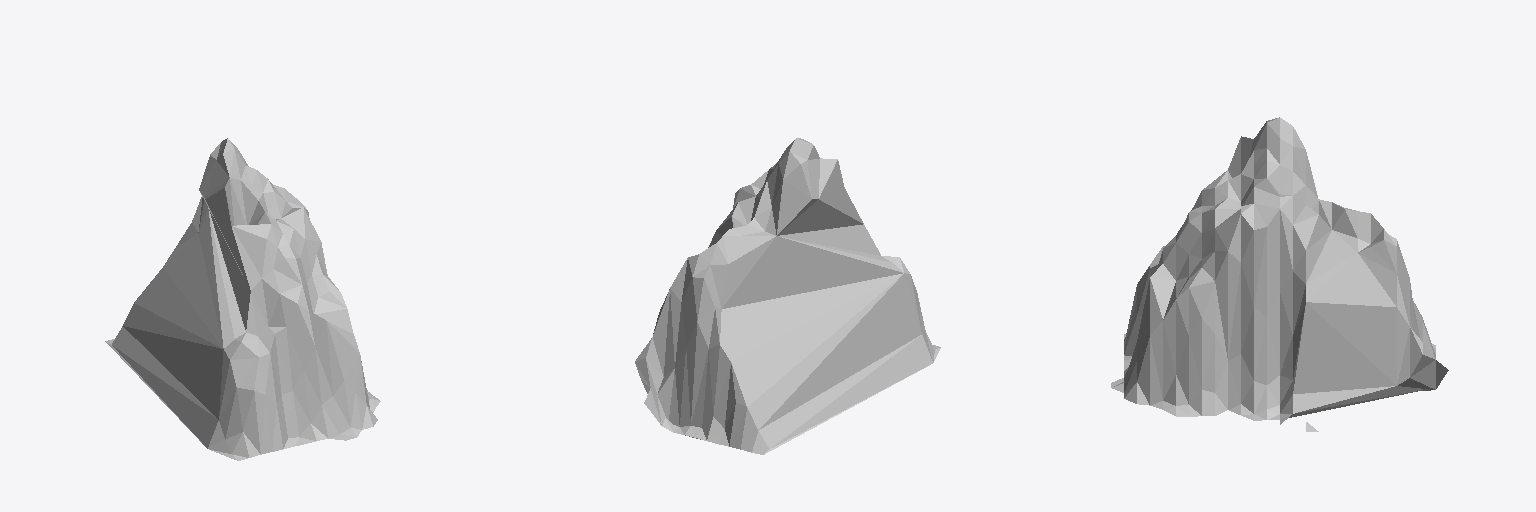
Rendered from tree_43.obj.
The picture shows the model from 3 angles: view 1: azimuth 30°, elevation 25°; view 2: azimuth 150°, elevation 25°; view 3: azimuth 270°, elevation 25°; orthographic projection.
Parts seen in each view (by area): view 1: tree_43_minus_dtm; view 2: tree_43_minus_dtm; view 3: tree_43_minus_dtm.
Part boxes in pixels (bbox=[...]): tree_43_minus_dtm: bbox=[105, 138, 380, 460]; tree_43_minus_dtm: bbox=[635, 138, 940, 454]; tree_43_minus_dtm: bbox=[1111, 117, 1448, 431].
Bounding box in the file's own units: 19 × 21.22 × 26.